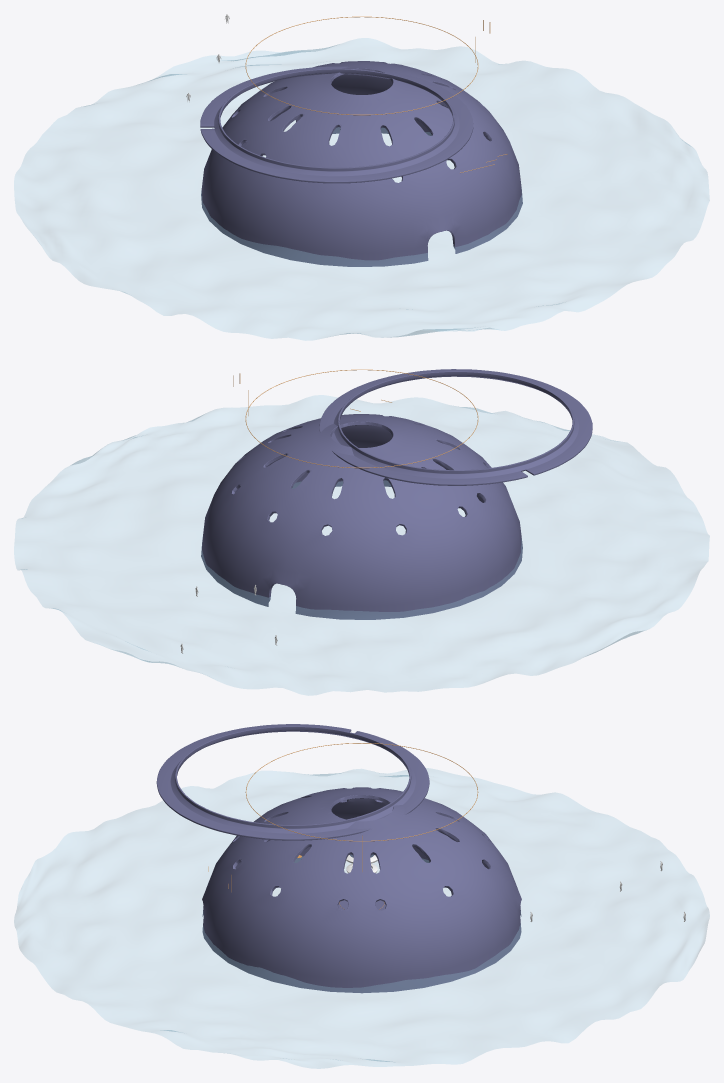
File: Dome.glb
3 views of the same model, one above another, from view 1: azimuth 30°, elevation 25°; view 2: azimuth 150°, elevation 25°; view 3: azimuth 270°, elevation 25° (orthographic).
Parts seen in each view (by area): view 1: Faux Water, Dome, Floor 1, Dome.001, Railing 2; view 2: Faux Water, Dome, Floor 1, Dome.001, Railing 2; view 3: Faux Water, Dome, Floor 1, Dome.001, Railing 2.
Part boxes in pixels (x1,y1,x2,y2): Faux Water: (14, 38, 709, 340); Dome: (201, 61, 522, 266); Floor 1: (200, 66, 473, 183); Dome.001: (230, 62, 493, 259); Railing 2: (245, 16, 478, 115); Faux Water: (14, 395, 709, 695); Dome: (201, 414, 522, 619); Floor 1: (319, 369, 592, 485); Dome.001: (230, 415, 490, 612); Railing 2: (245, 369, 478, 468); Faux Water: (14, 768, 709, 1068); Dome: (202, 787, 521, 993); Floor 1: (156, 724, 429, 840); Dome.001: (203, 788, 520, 931); Railing 2: (245, 743, 478, 841).
Size of what is drawn, in the model's own units: 19.94 by 4.72 by 19.94.
